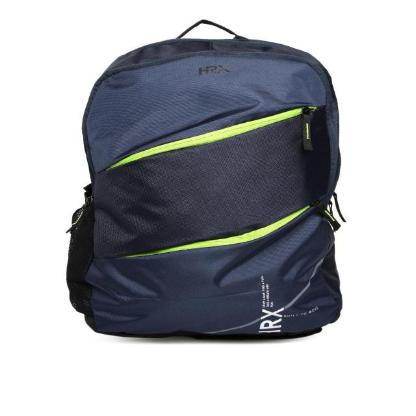bag: (63, 22, 349, 345)
